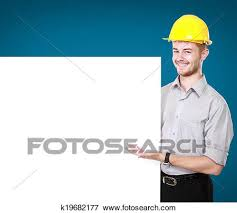Person_wearing_helmet: (160, 14, 216, 50)
